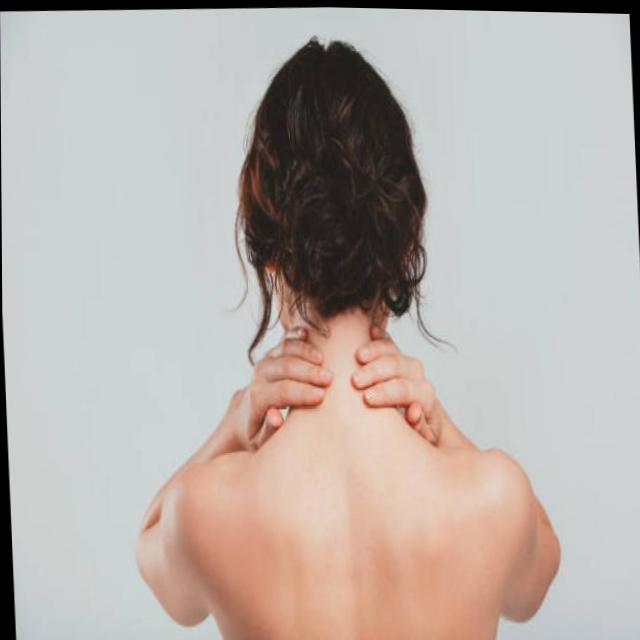no helmet: (220, 22, 444, 362)
